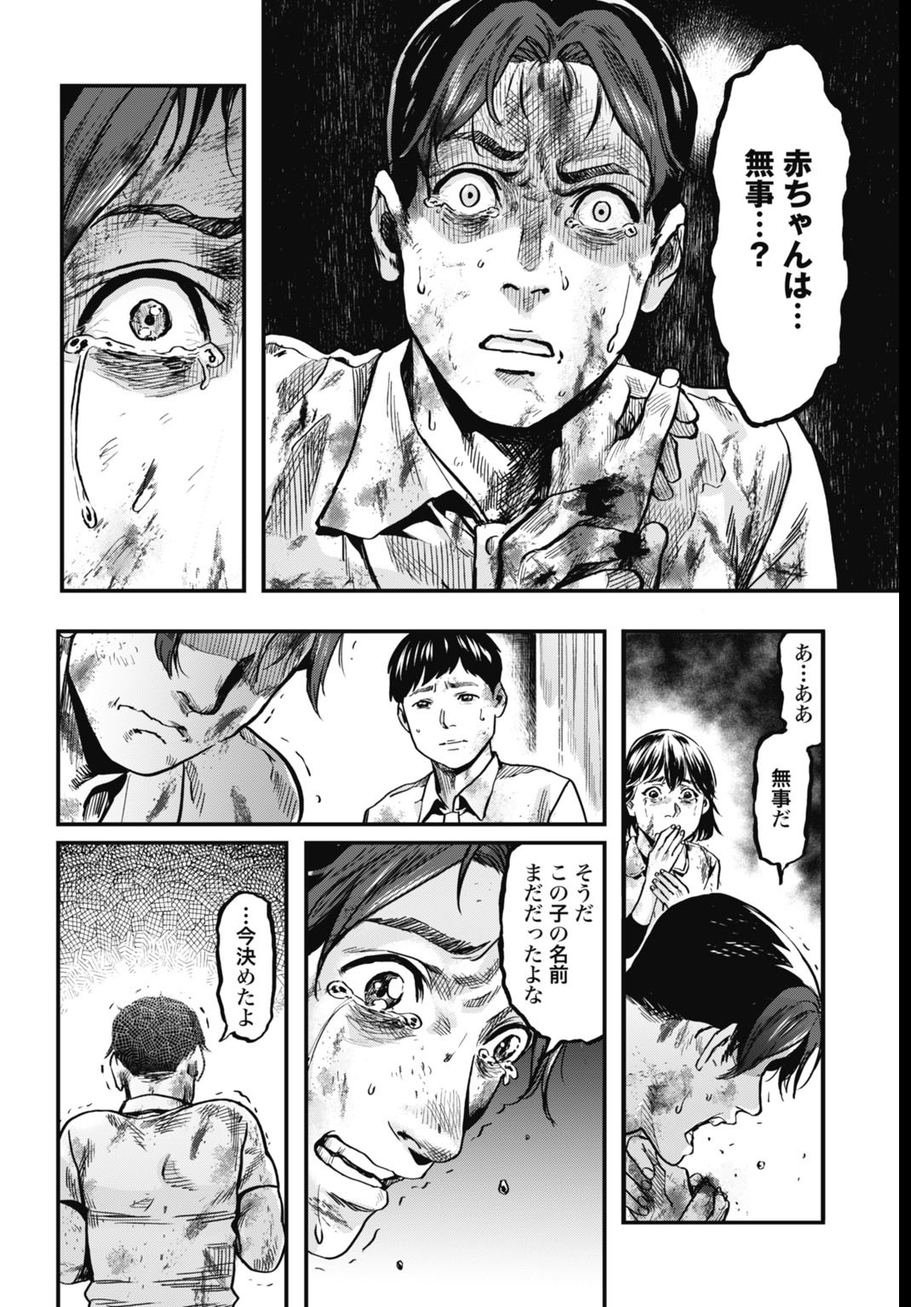bubbles: (705, 35, 857, 434), (490, 842, 605, 1063), (743, 631, 824, 891), (209, 890, 285, 1054)
